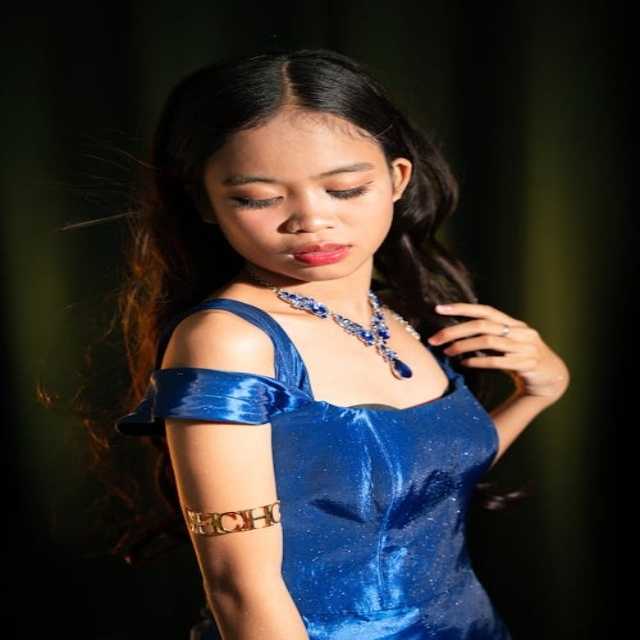Sin_gafas: (223, 166, 387, 215)
Sin_guantes: (421, 290, 576, 410)
Sin_mascara: (270, 233, 362, 275)
